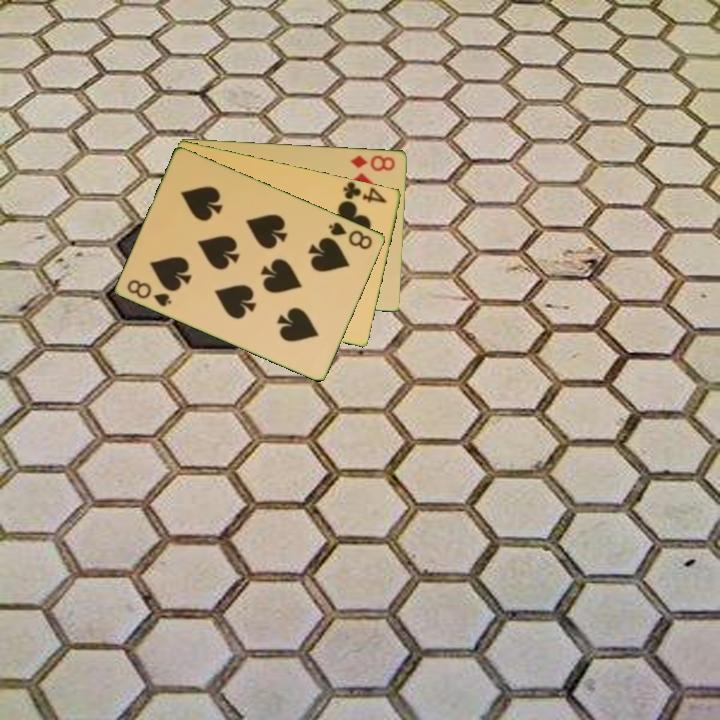4c: (340, 179, 390, 206)
8d: (347, 151, 398, 174)
8s: (325, 218, 376, 252), (124, 276, 175, 310)
